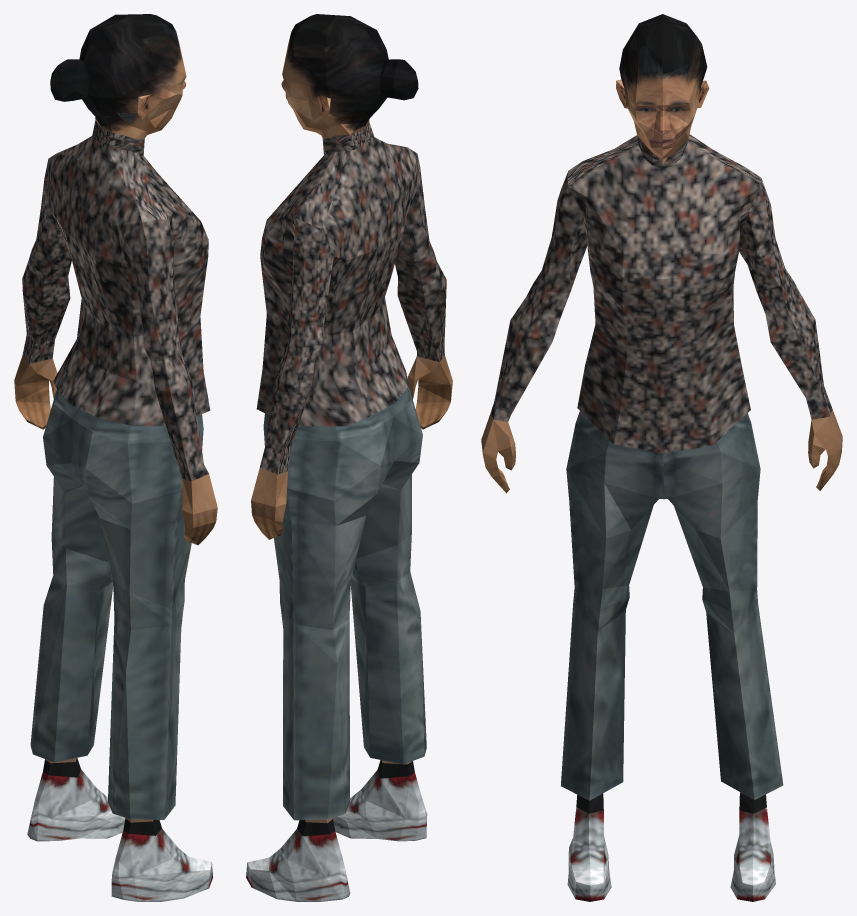
File: sofost.obj
The picture shows the model from 3 angles, left to right: view 1: azimuth 30°, elevation 25°; view 2: azimuth 150°, elevation 25°; view 3: azimuth 270°, elevation 25°; orthographic projection.
Visible parts, largest first — view 1: _Pelvis; view 2: _Pelvis; view 3: _Pelvis.
Boxes of the visible parts, x1,y1,x2,y2 form: _Pelvis: (14, 14, 217, 901); _Pelvis: (246, 14, 452, 901); _Pelvis: (481, 14, 842, 901).
Size of the model in its own units: 0.3213 by 1.8 by 0.6856.
1 material, 1 textured.
